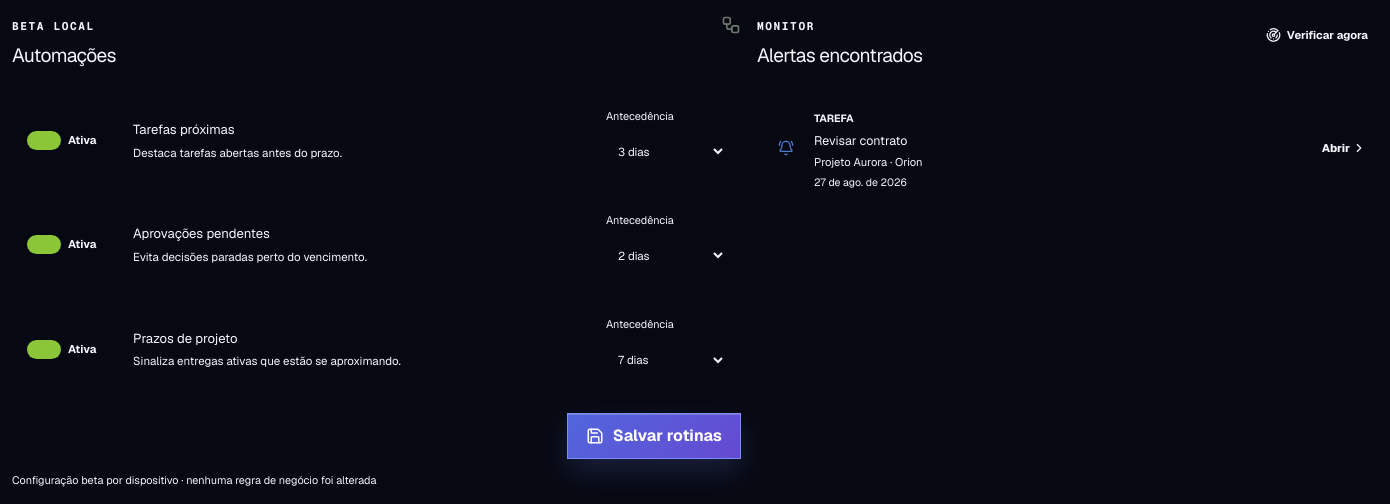
Marco 23 smart routines › keeps rule edits as a draft until the explicit save
The width and height of the screenshot is (1390, 504).
Check: the heading "Revisar contrato" is shown, box [814,132,907,149]
Click the switch named "Tarefas próximas" at (73, 140), box [27,118,119,162]
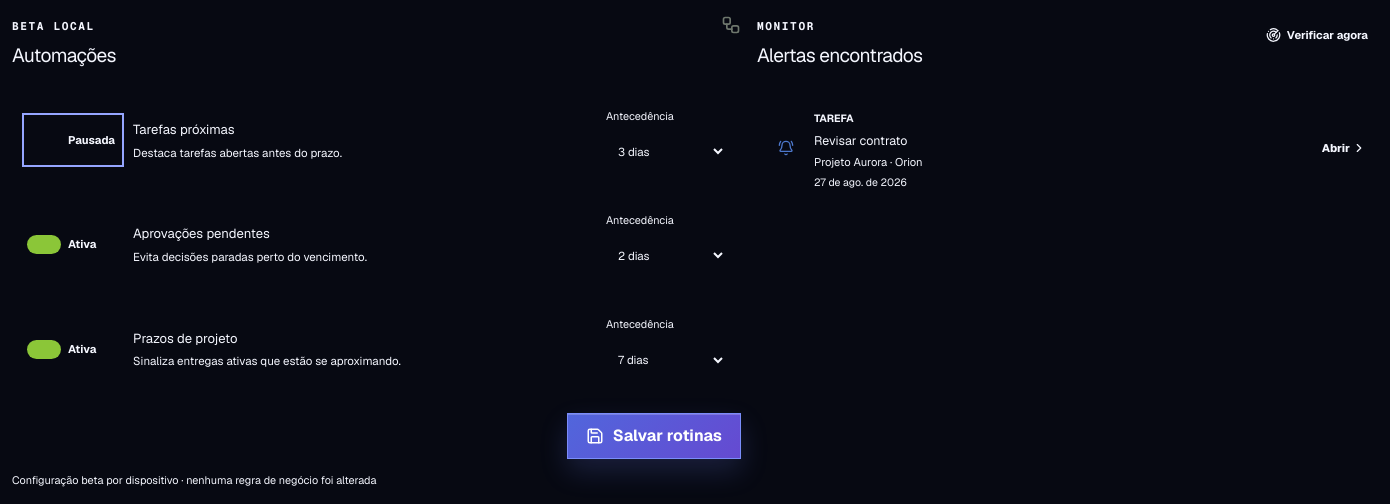
Check: the heading "Revisar contrato" is shown, box [814,132,907,149]
Click the button "Salvar rotinas" at (654, 436), box [567,413,741,459]
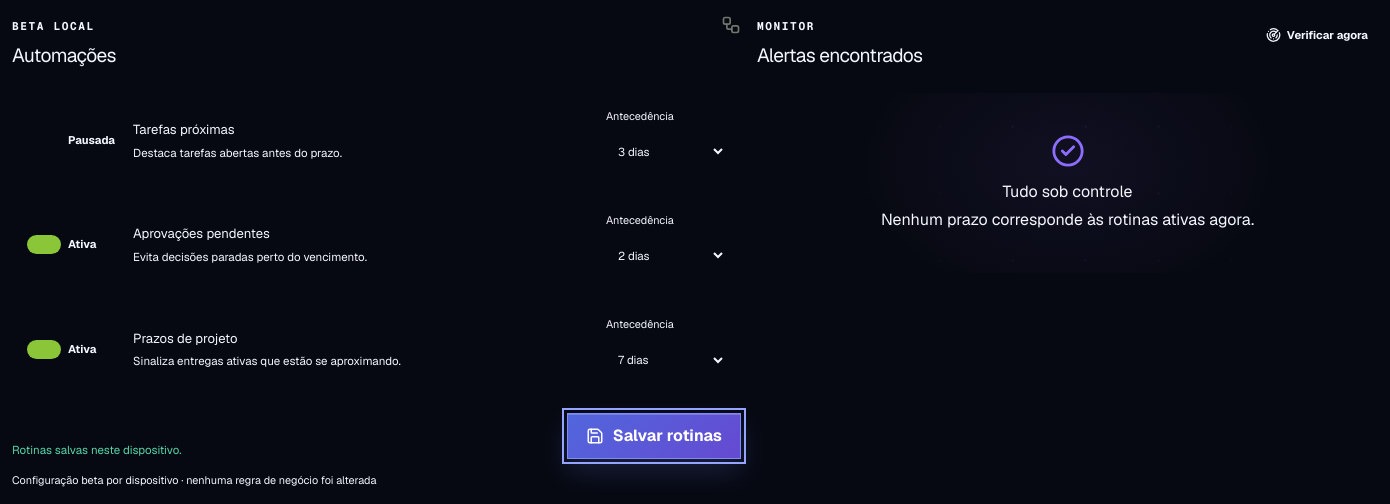
Check: the heading "Revisar contrato" is gone
